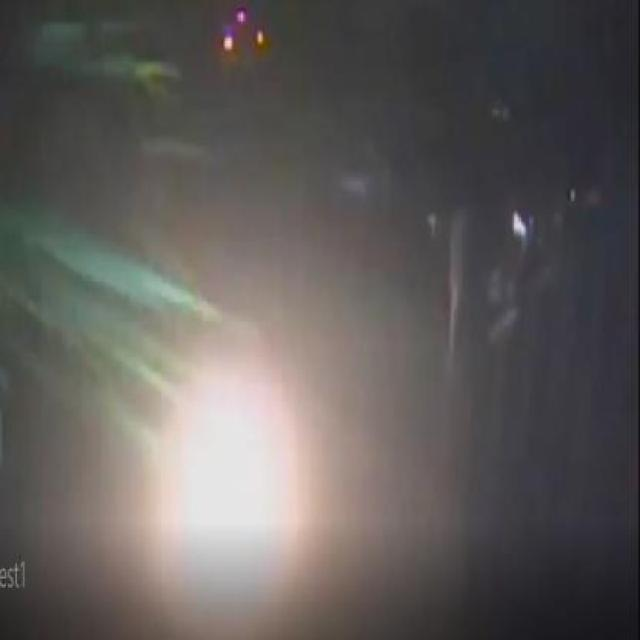Fire: (152, 360, 303, 558)
